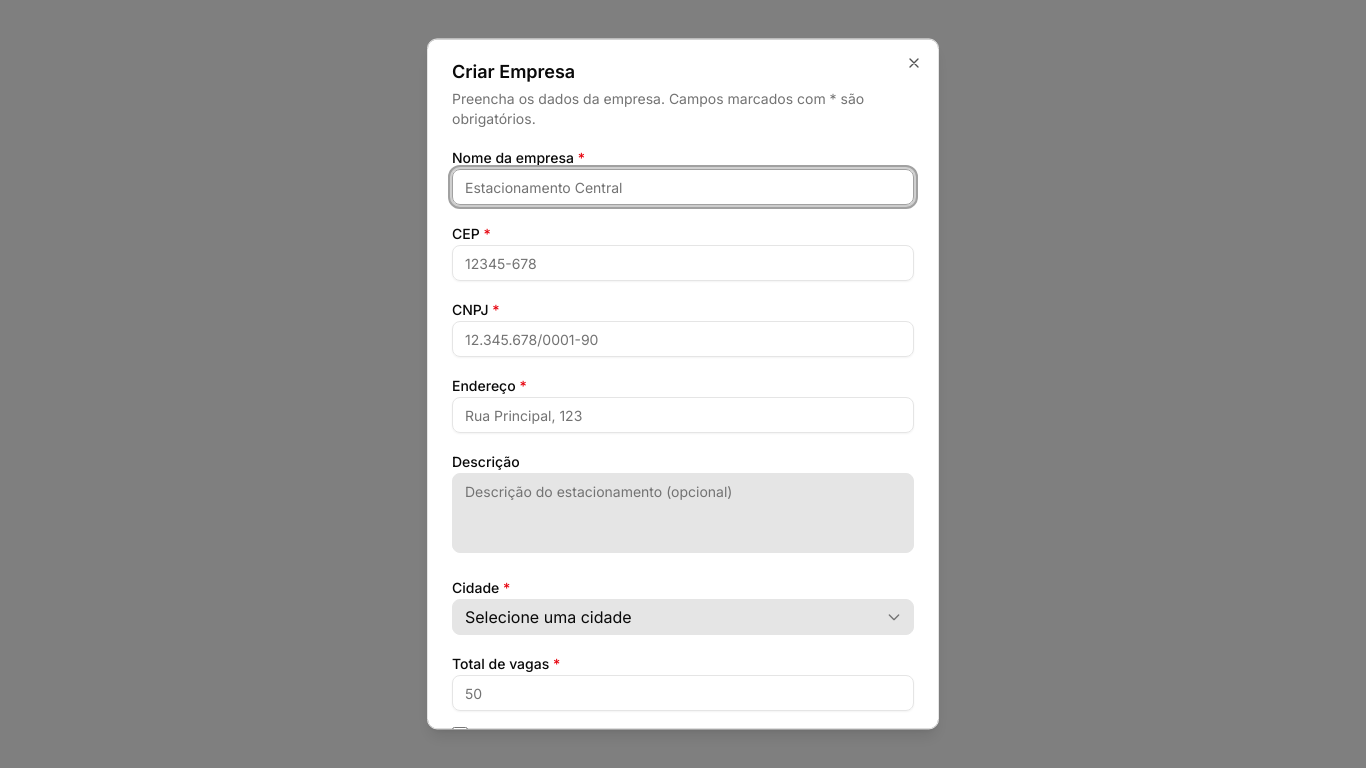
Test case: companyForm › formatting › should format CEP automatically during typing
Type "12345678" into the field labelled "CEP *".
click(683, 263); type("12345678")  # box [452,245,914,281]
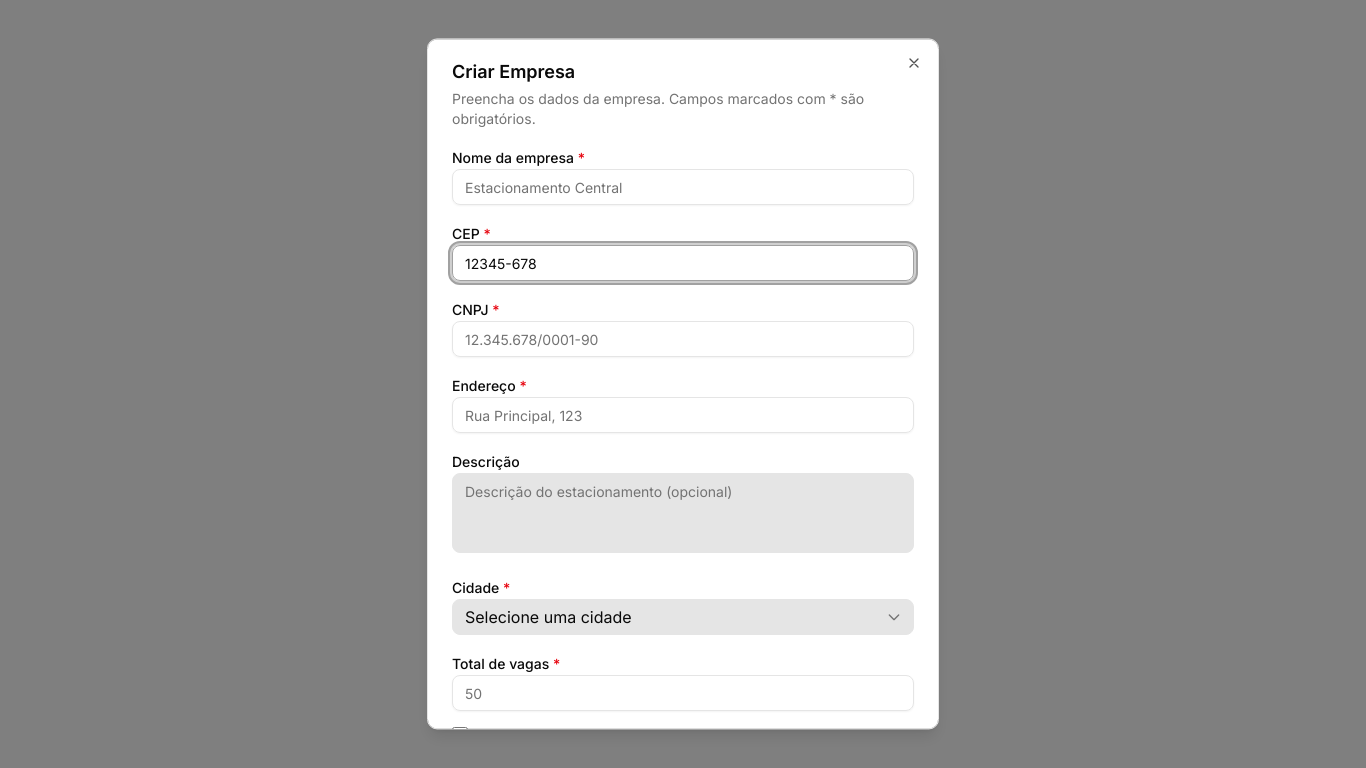
Now the field labelled "CEP *" holds "12345-678", box [452,245,914,281]
